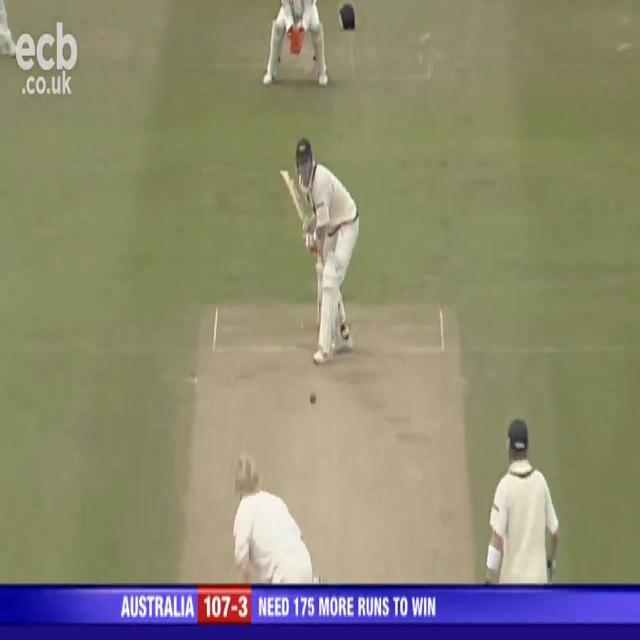ball: (308, 391, 319, 407)
